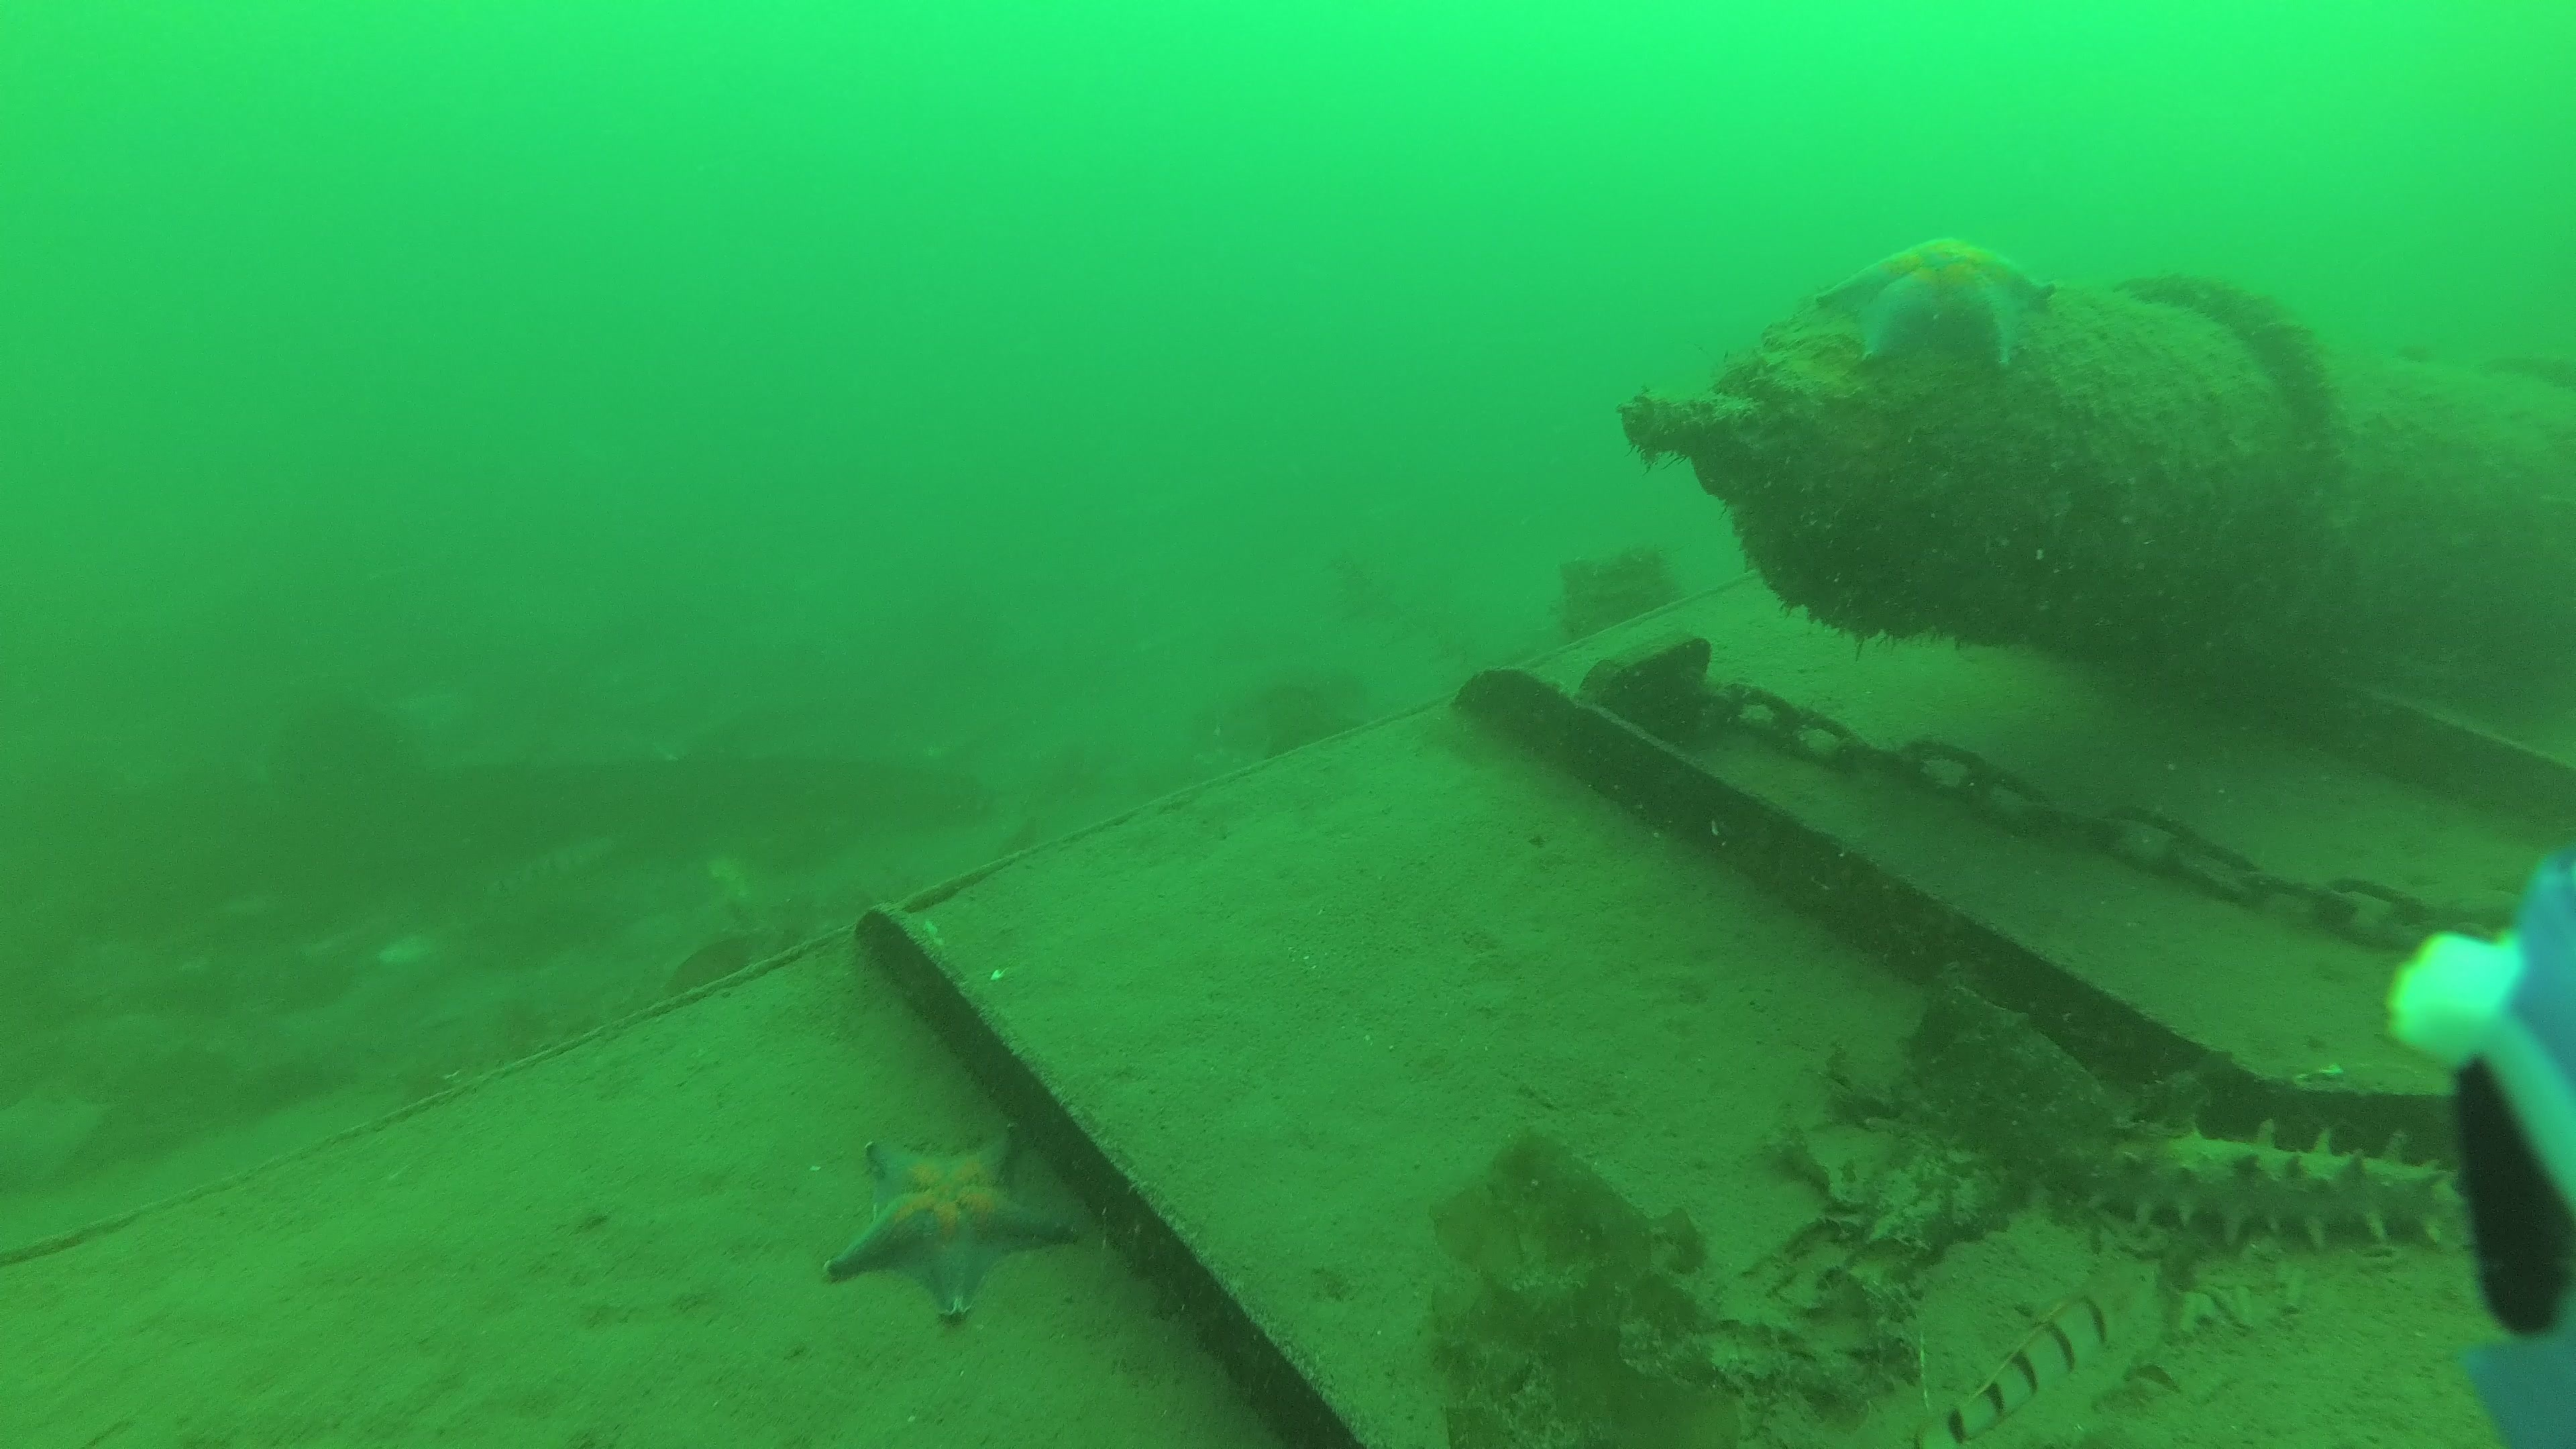holothurian: (2066, 1115, 2466, 1254)
starfish: (821, 1125, 1079, 1323), (1812, 235, 2054, 375)
